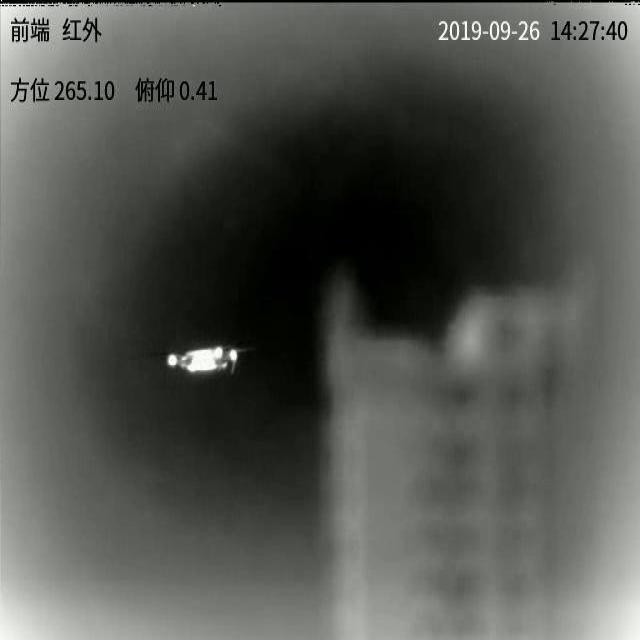drone: (167, 346, 238, 373)
